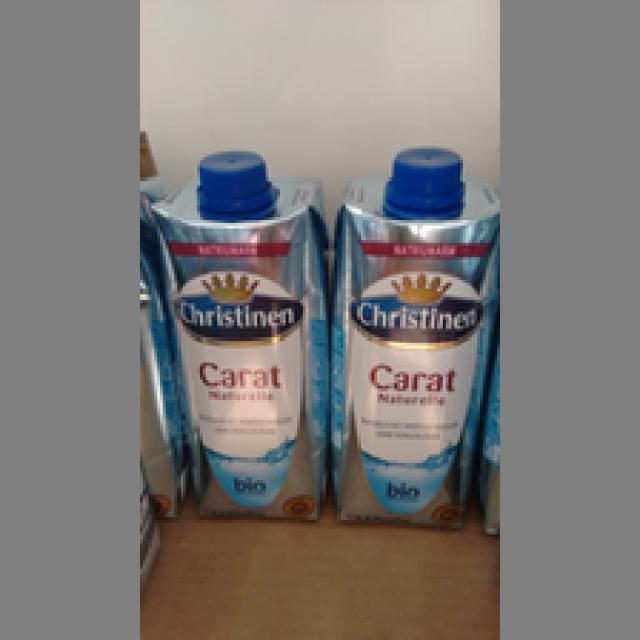groceries: (146, 146, 323, 523), (320, 146, 494, 523)
